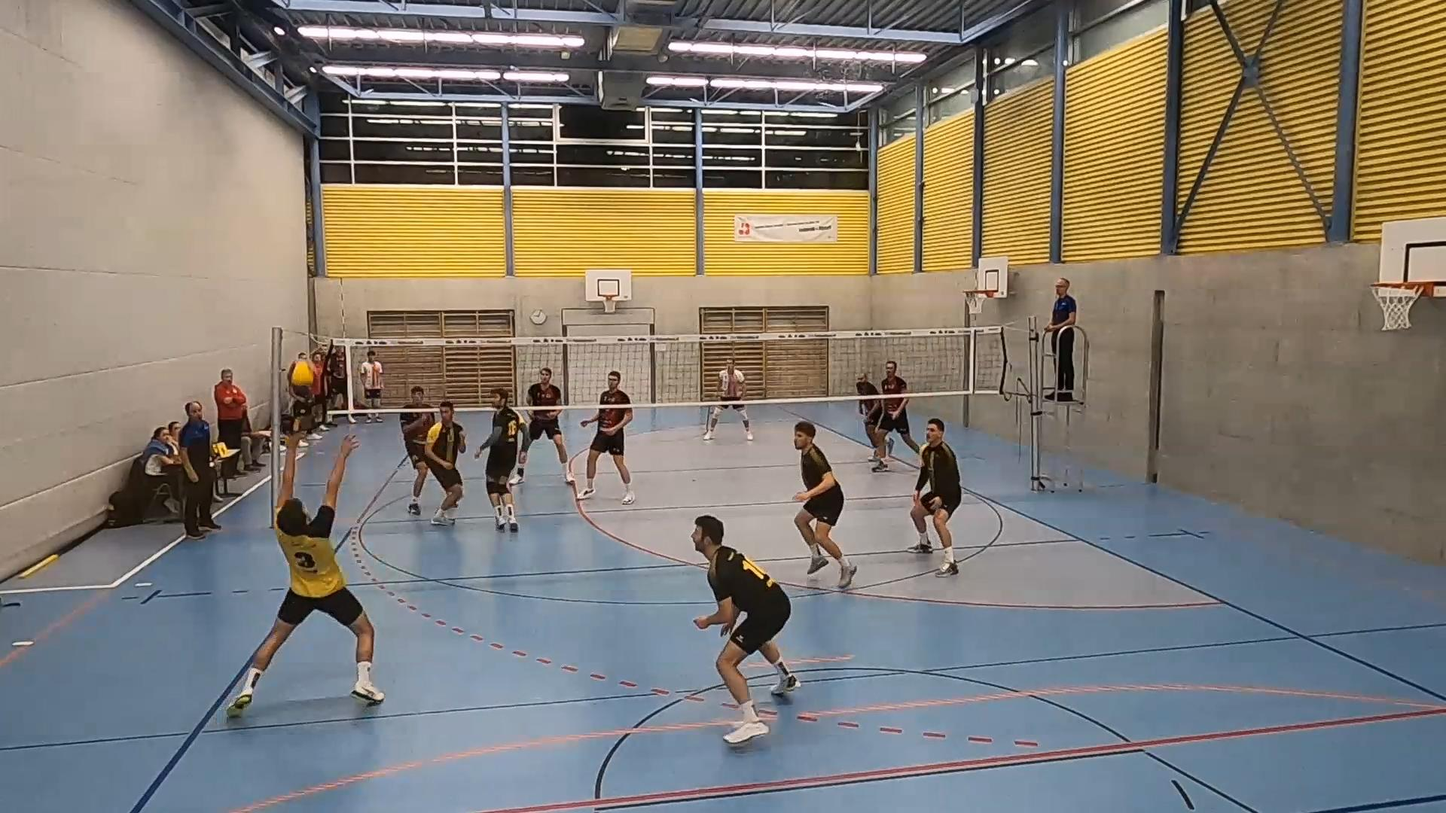ricezione: (221, 424, 388, 724)
